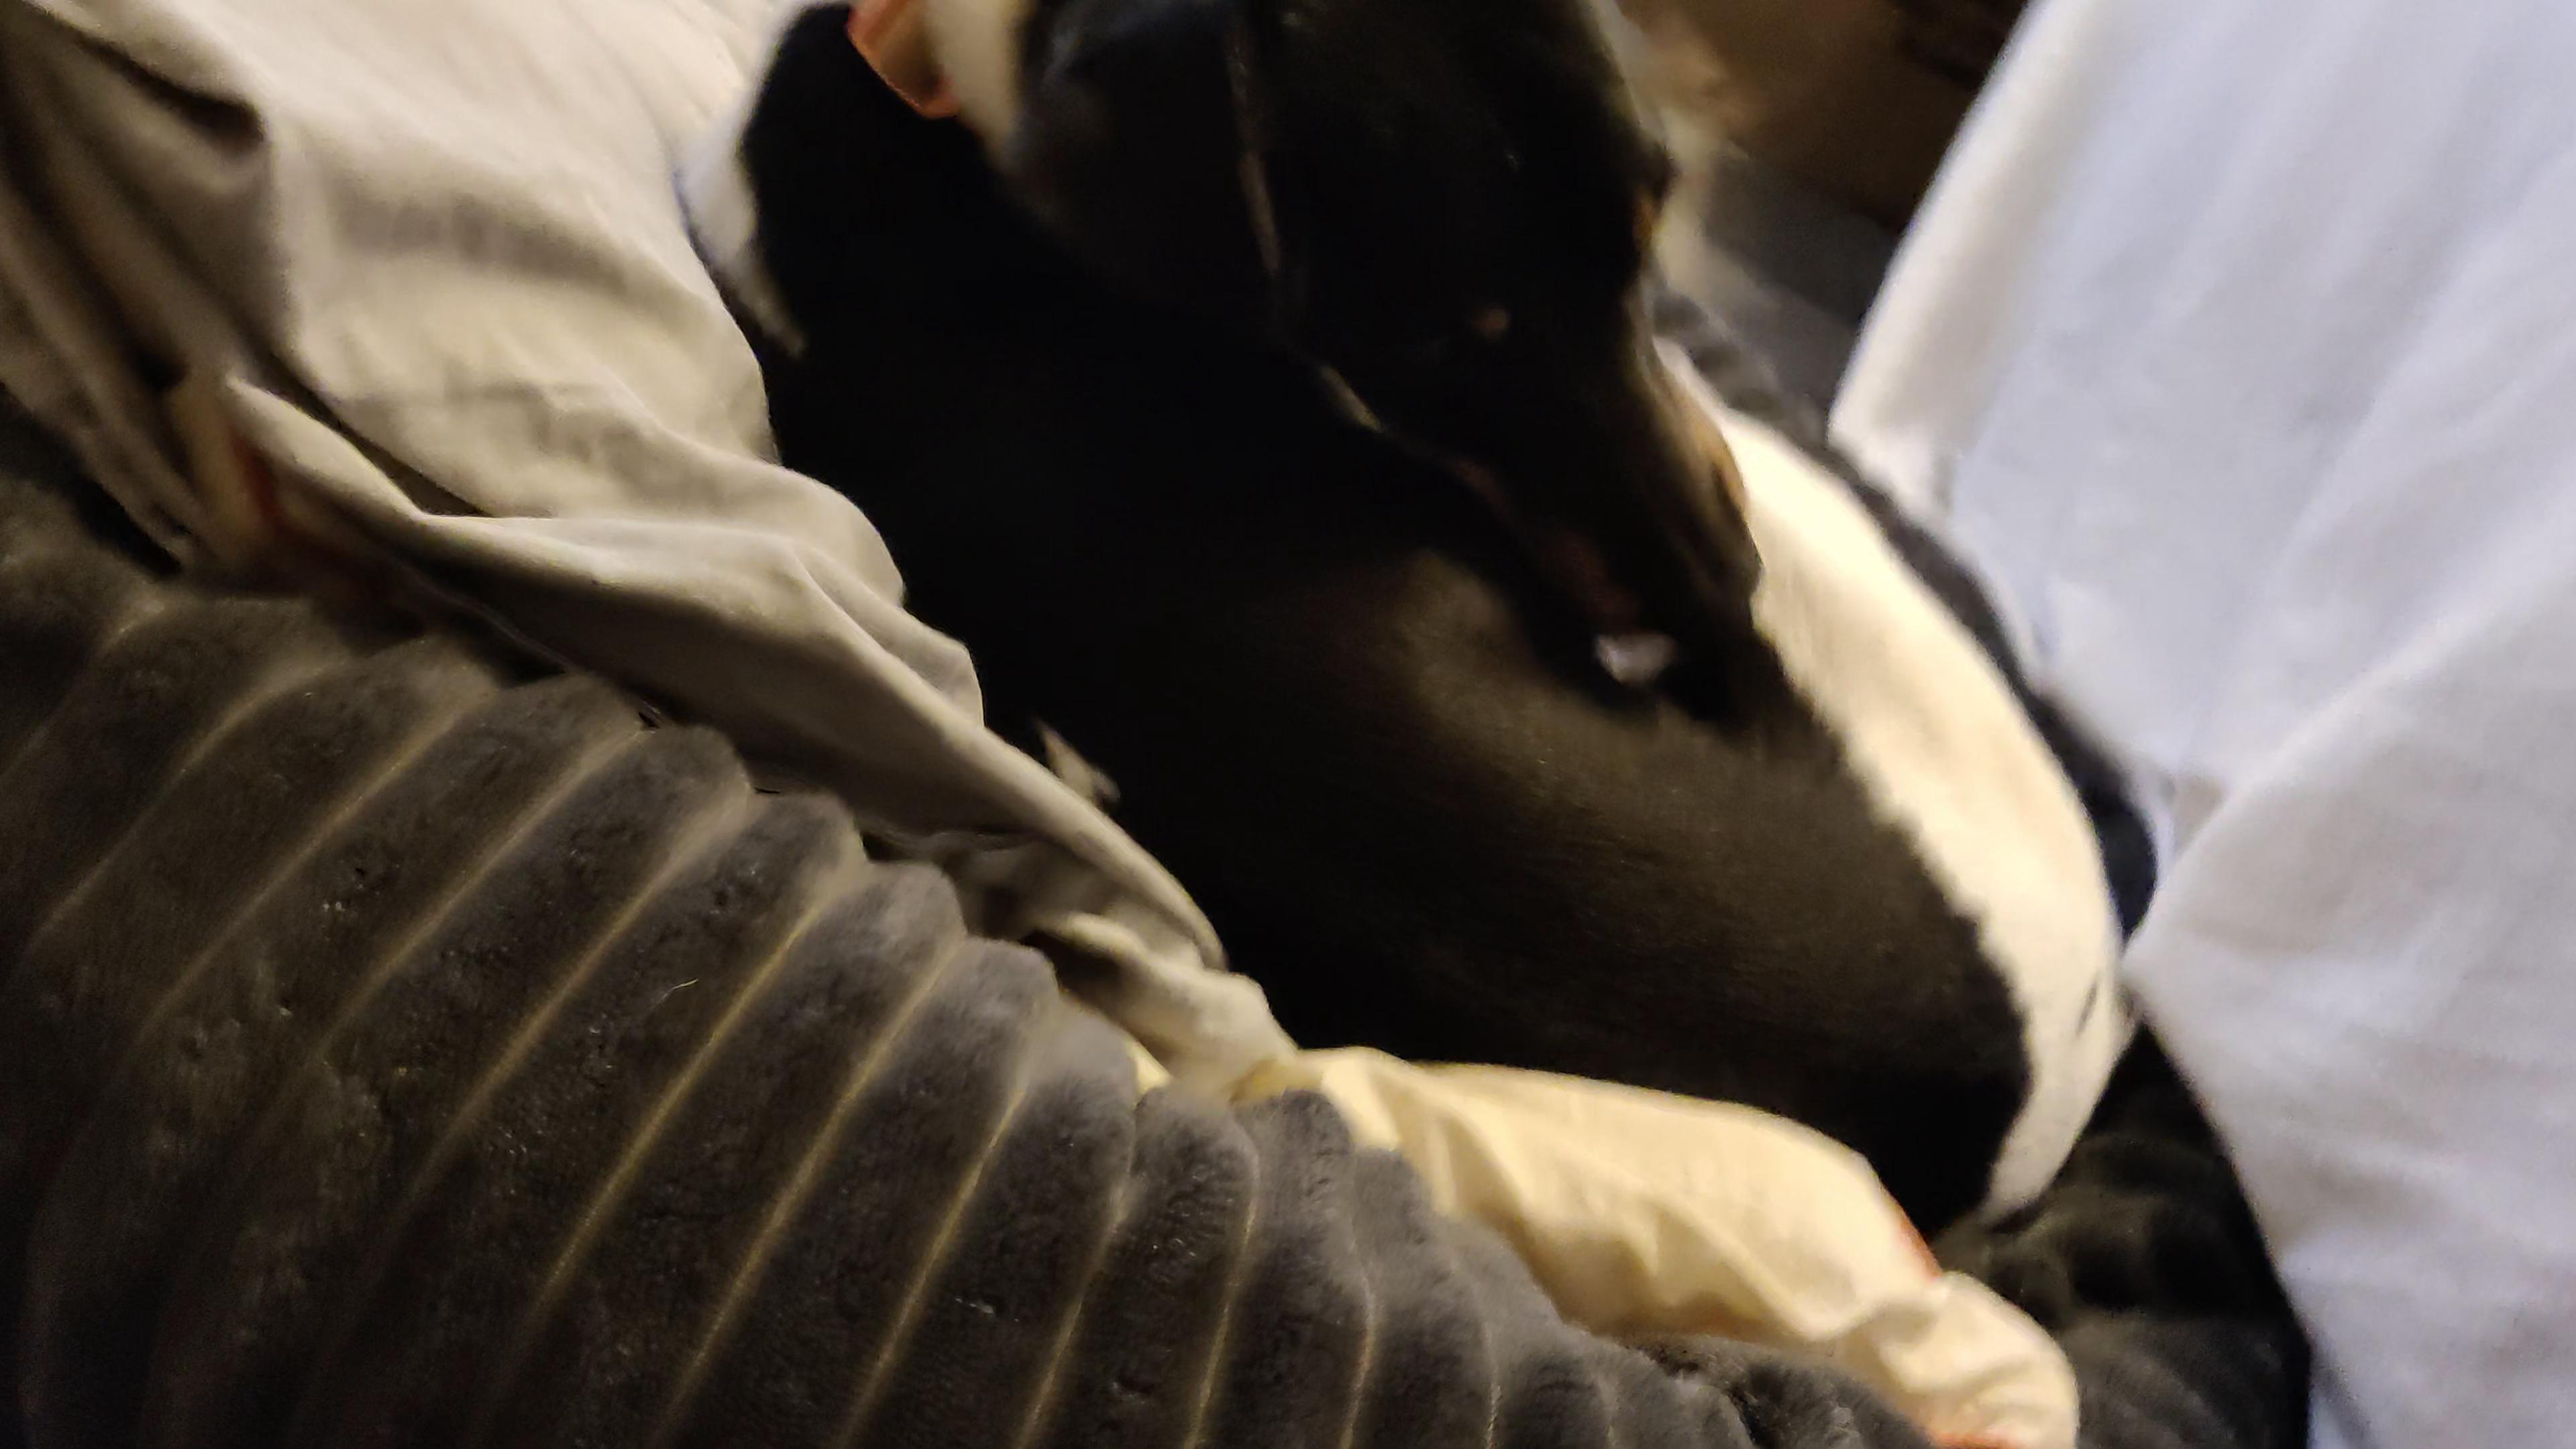Dog: (621, 0, 2176, 1274)
